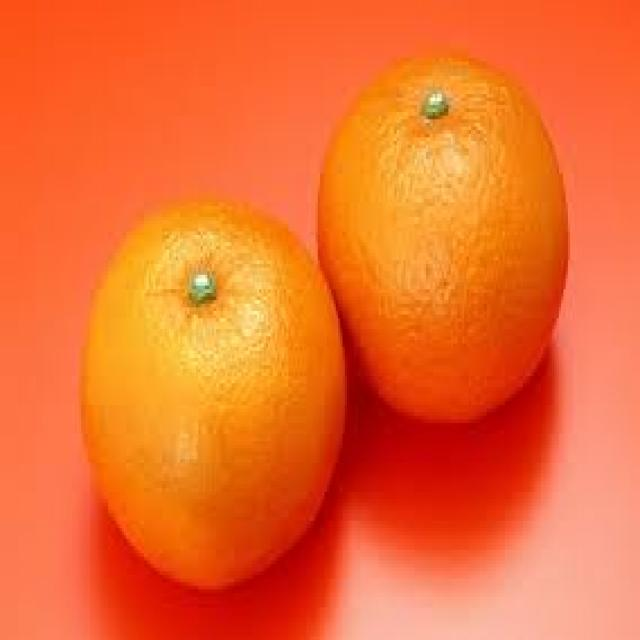orange: (81, 195, 356, 597), (316, 58, 570, 437)
